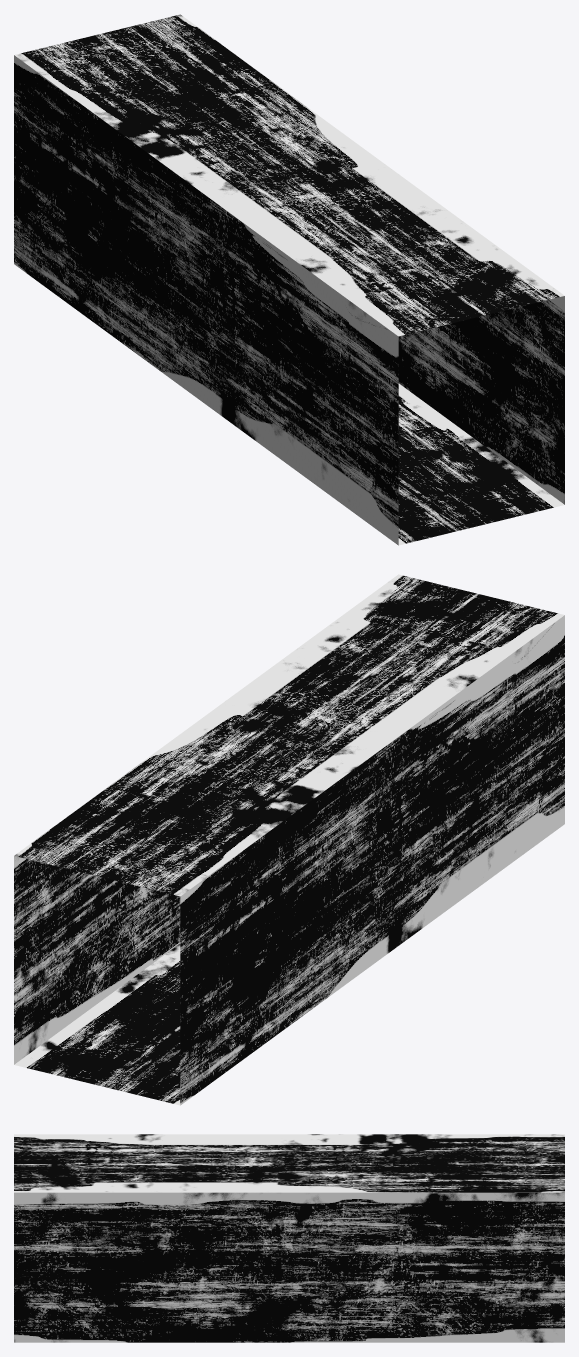
Rendered from SM_wall_A_element_2_01.fbx.
3 views of the same model, one above another, from view 1: azimuth 30°, elevation 25°; view 2: azimuth 150°, elevation 25°; view 3: azimuth 270°, elevation 25° (orthographic). The views are drawn at different scales.
Parts seen in each view (by area): view 1: SM_wall_A_element_2_01_LOD0; view 2: SM_wall_A_element_2_01_LOD0; view 3: SM_wall_A_element_2_01_LOD0.
Part boxes in pixels (left/top/right/bottom): SM_wall_A_element_2_01_LOD0: left=14, top=14, right=564, bottom=545; SM_wall_A_element_2_01_LOD0: left=14, top=574, right=564, bottom=1105; SM_wall_A_element_2_01_LOD0: left=14, top=1134, right=564, bottom=1342.
Bounding box in the file's own units: 50 × 200 × 60.
Materials: 1 (1 with a texture image).
